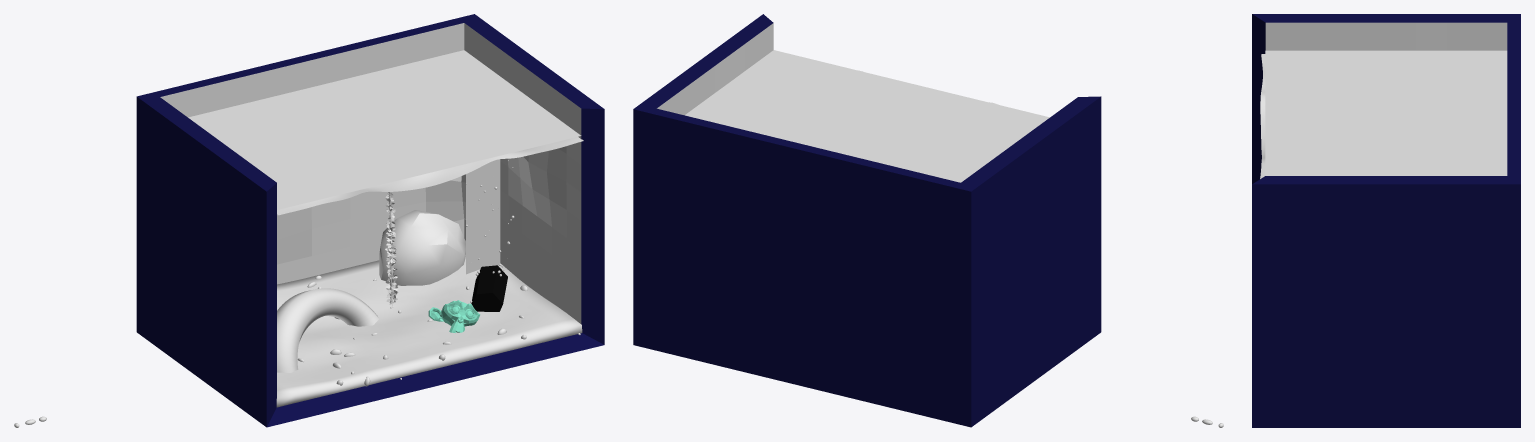
The model's file is apuarium.fbx.
3 views of the same model, side by side, from view 1: azimuth 30°, elevation 25°; view 2: azimuth 150°, elevation 25°; view 3: azimuth 270°, elevation 25° (orthographic). The views are drawn at different scales.
Visible parts, largest first — view 1: aquarium, air_cacher, sand, Rock02, wood, waterplant_texturepaint, water, airation, monkey, tall_reaf; view 2: aquarium, air_cacher; view 3: aquarium, air_cacher, water.
Part boxes in pixels (box(x1,y1,x2,y2)): aquarium: box(136, 14, 604, 427); air_cacher: box(188, 50, 581, 209); sand: box(276, 240, 582, 407); Rock02: box(379, 210, 465, 285); wood: box(277, 288, 378, 372); waterplant_texturepaint: box(466, 159, 500, 274); water: box(277, 137, 583, 215); airation: box(471, 265, 507, 311); monkey: box(428, 300, 480, 332); tall_reaf: box(385, 192, 397, 304); aquarium: box(633, 14, 1101, 427); air_cacher: box(685, 50, 1049, 182); aquarium: box(1252, 14, 1520, 427); air_cacher: box(1265, 50, 1507, 175); water: box(1260, 54, 1265, 178).
Bounding box in the file's own units: 932 × 405 × 400.
